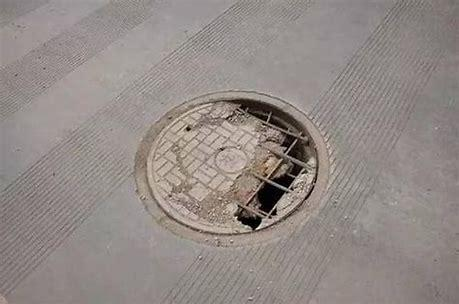wellcover: (132, 101, 325, 237)
